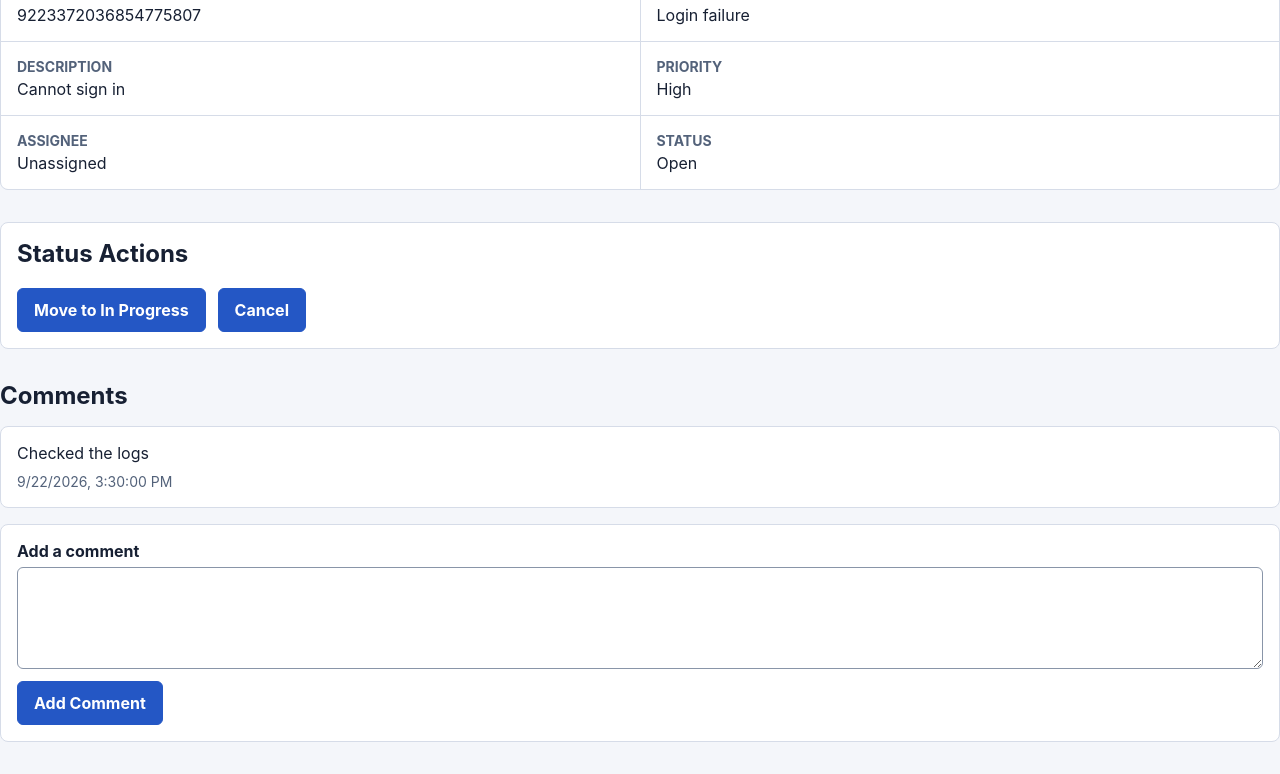
it: Ticket Detail and mutations › validates, submits, refreshes, and preserves failed comments
(page scrolled)
Check: the text "Login failure" is shown, box left=656, top=5, right=750, bottom=25
Click the button "Add Comment": (90, 703) left=17, top=681, right=163, bottom=725
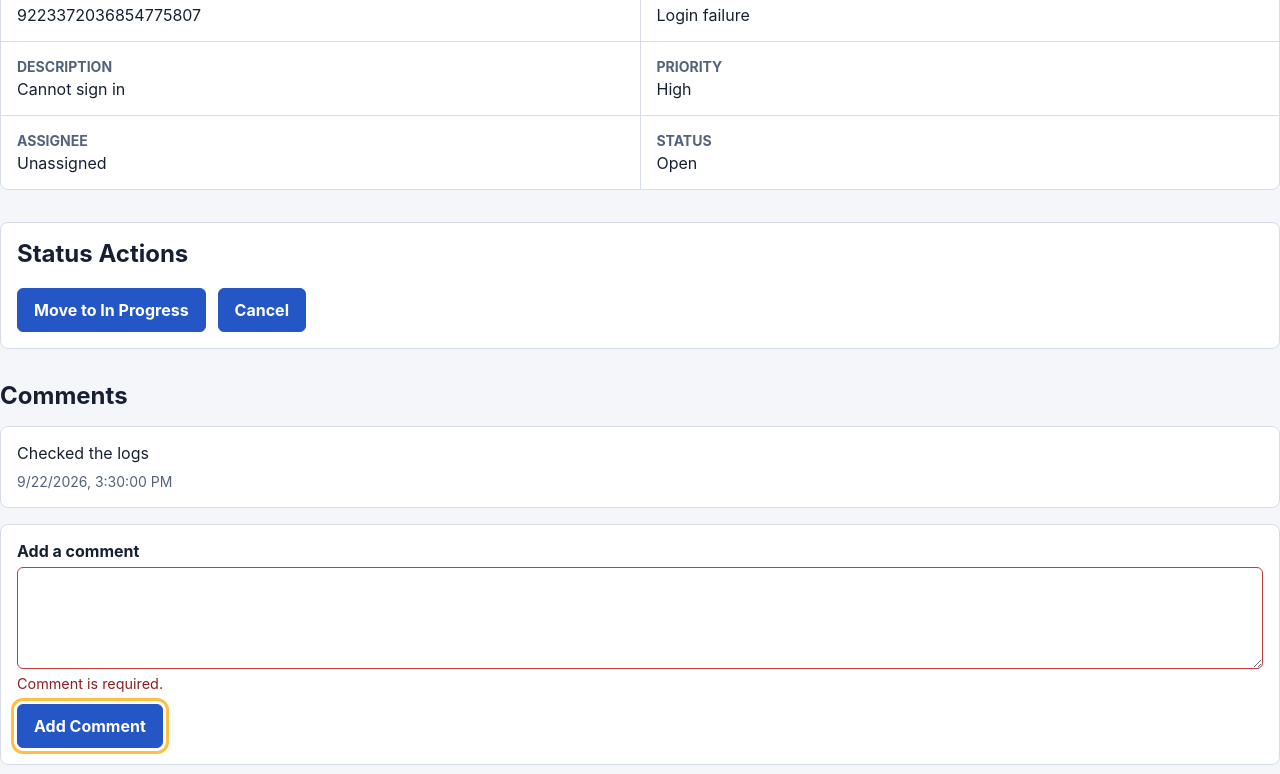
Check: the text "Comment is required." is shown, box left=17, top=675, right=163, bottom=692
In the text box labelled "Add a comment": (640, 618) left=17, top=567, right=1263, bottom=669, type "New comment"
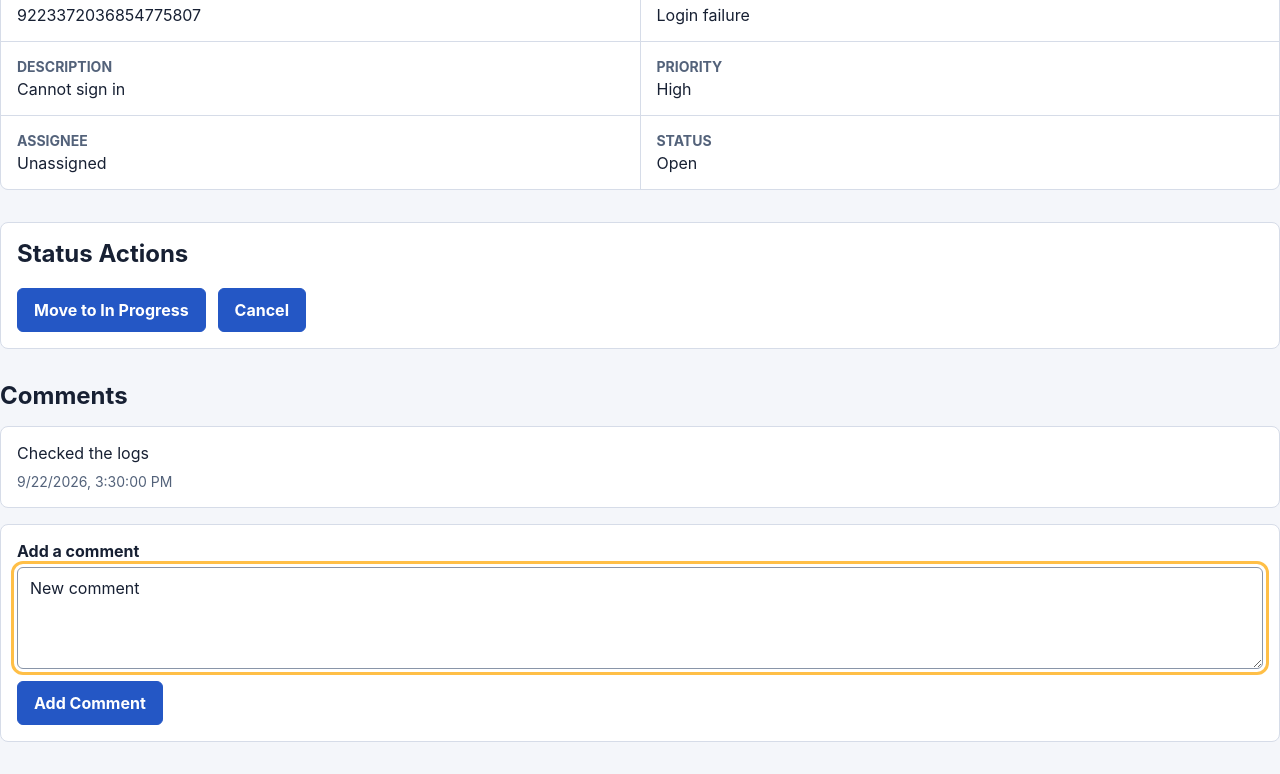
Click the button "Add Comment": (90, 703) left=17, top=681, right=163, bottom=725
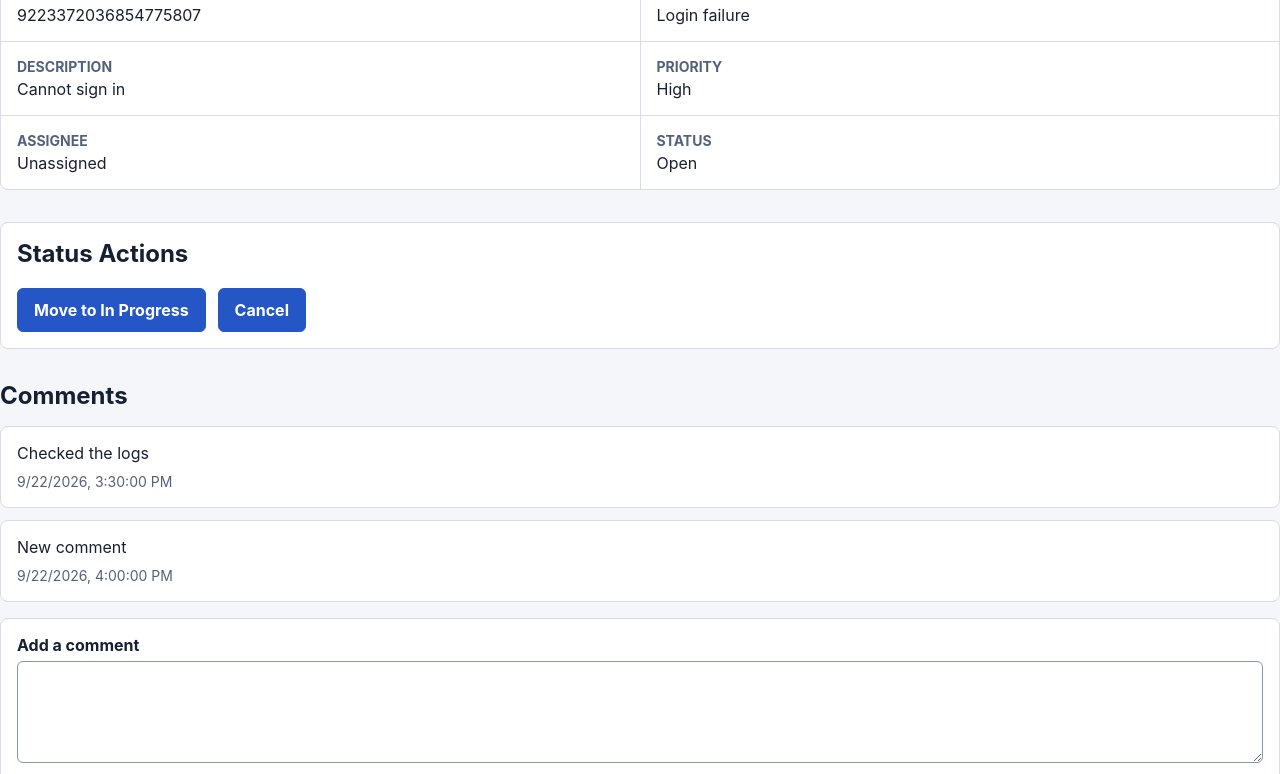
Check: the text "New comment" is shown, box left=17, top=537, right=126, bottom=557
Check: the text box labelled "Add a comment" is empty, box left=17, top=661, right=1263, bottom=763
